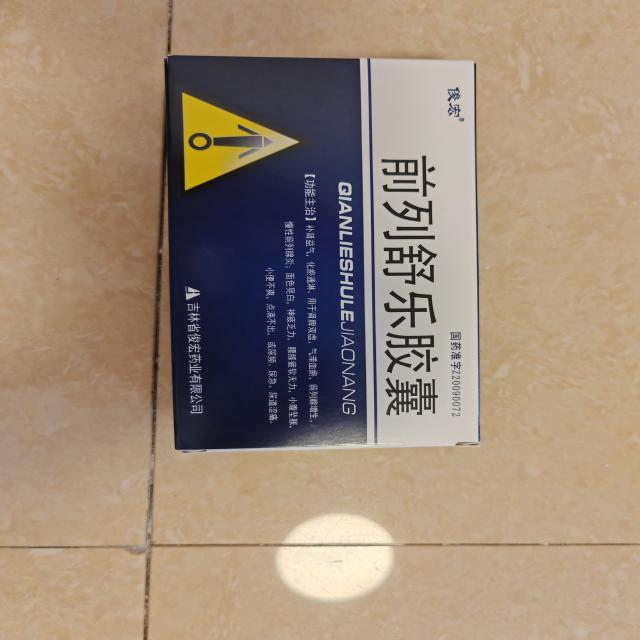box: (154, 45, 492, 460)
